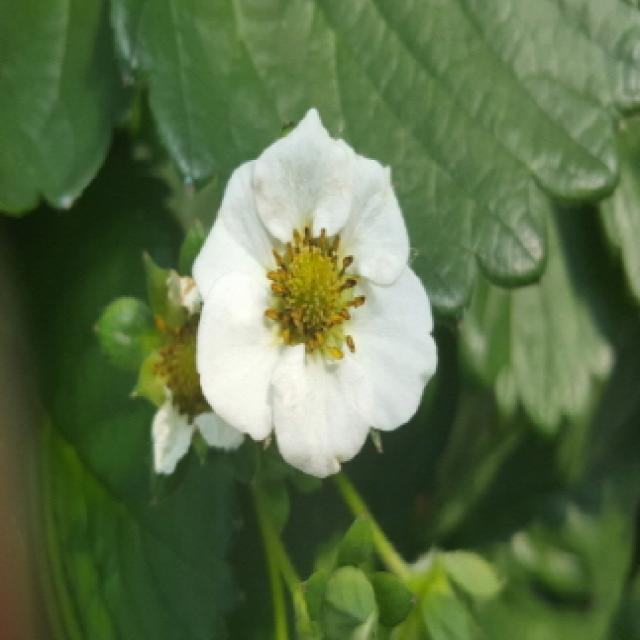Blossom Blight: (260, 221, 370, 368)
